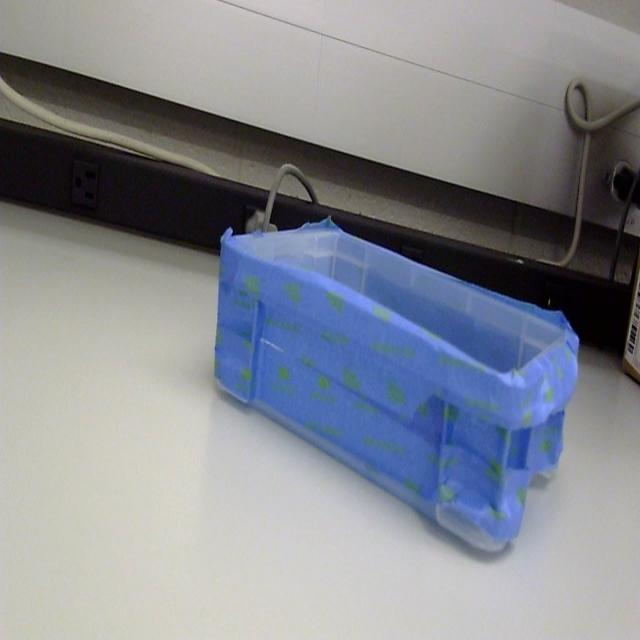bucket: (212, 221, 580, 559)
